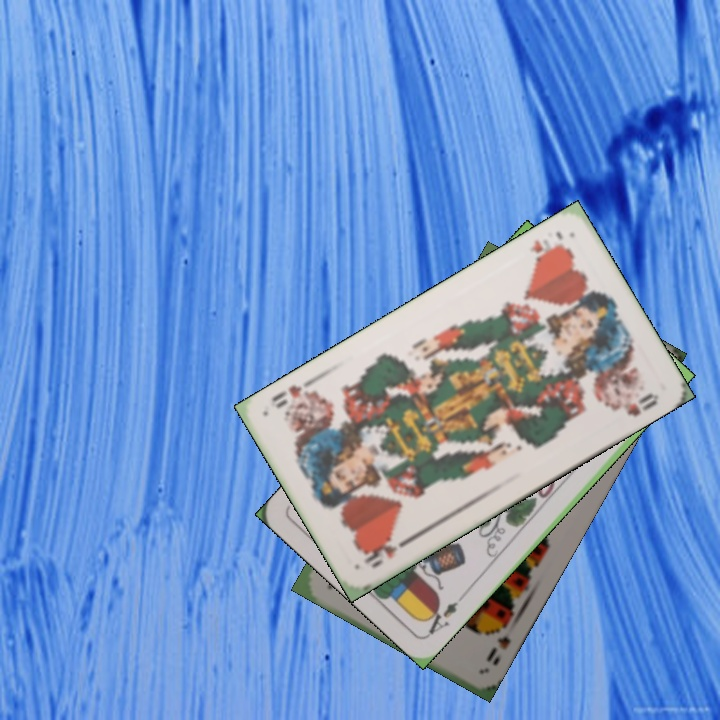EA: (420, 597, 460, 638)
HO: (360, 534, 413, 571), (525, 227, 566, 266)
S9: (482, 616, 514, 665)
